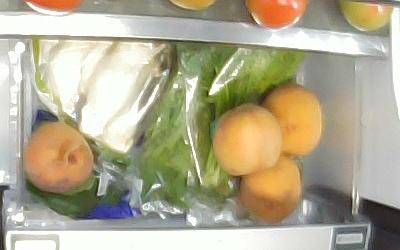peach: (23, 123, 94, 194), (214, 103, 281, 176), (259, 85, 322, 157), (238, 155, 303, 224)
